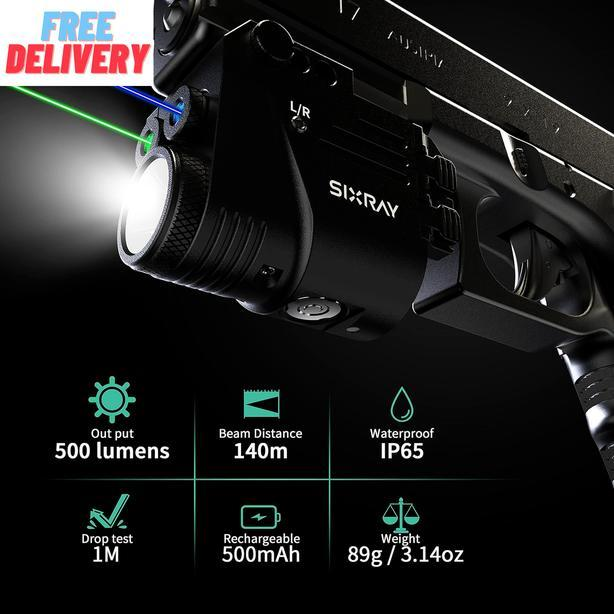Firearm: (110, 0, 614, 453)
